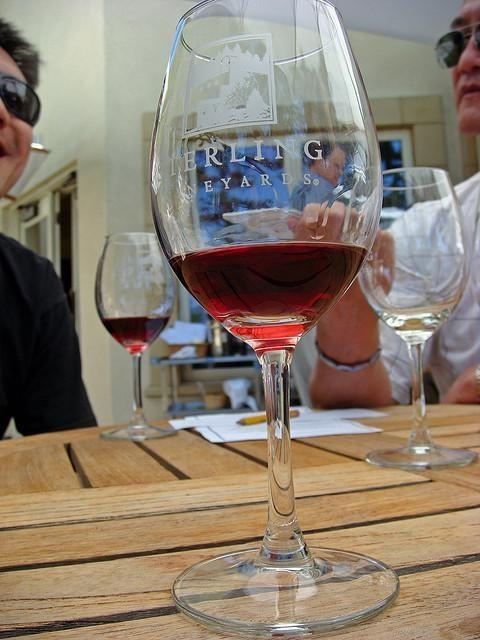glass-wine: (145, 1, 398, 633), (355, 164, 479, 471), (95, 232, 178, 440)
